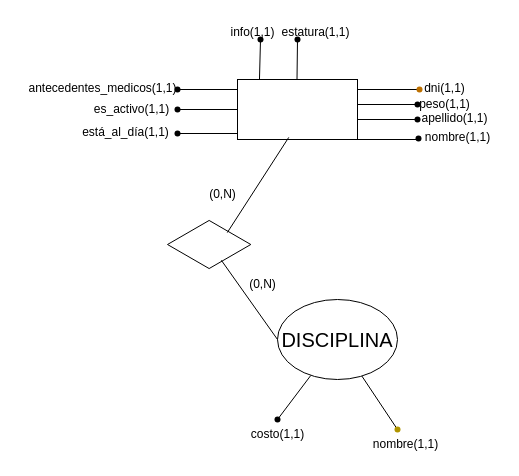
The diagram is 519 pixels wide and 476 high, and some of its shapes have lost their labels. Each missing label, with the centre of its shape:
"ABONADO" belongs at point 297,109.
"REALIZA" belongs at point 208,244.
